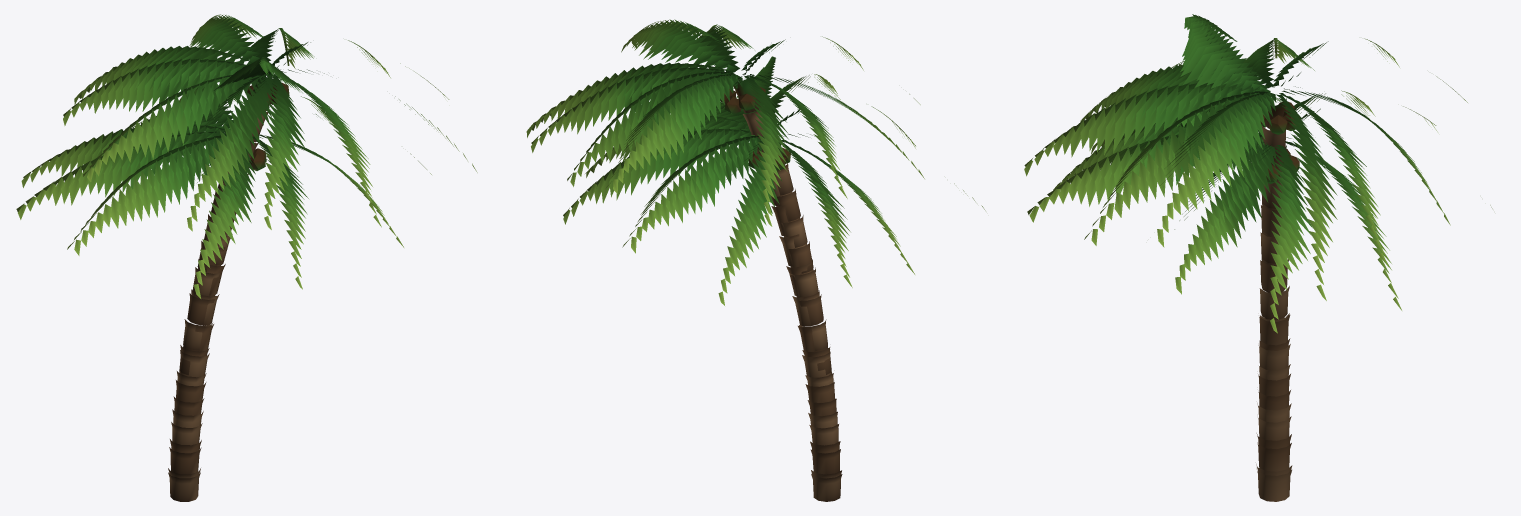
File: palms.glb
3 views of the same model, side by side, from view 1: azimuth 30°, elevation 25°; view 2: azimuth 150°, elevation 25°; view 3: azimuth 270°, elevation 25° (orthographic). The views are drawn at different scales.
Parts seen in each view (by area): view 1: palm1, palm0; view 2: palm1, palm0; view 3: palm1, palm0.
Part boxes in pixels (bbox=[...]): palm1: bbox=[63, 14, 477, 498]; palm0: bbox=[16, 85, 431, 501]; palm1: bbox=[526, 19, 924, 500]; palm0: bbox=[563, 56, 985, 501]; palm1: bbox=[1024, 14, 1467, 501]; palm0: bbox=[1027, 90, 1492, 500].
Bounding box in the file's own units: 6.46 × 6.52 × 5.73.
